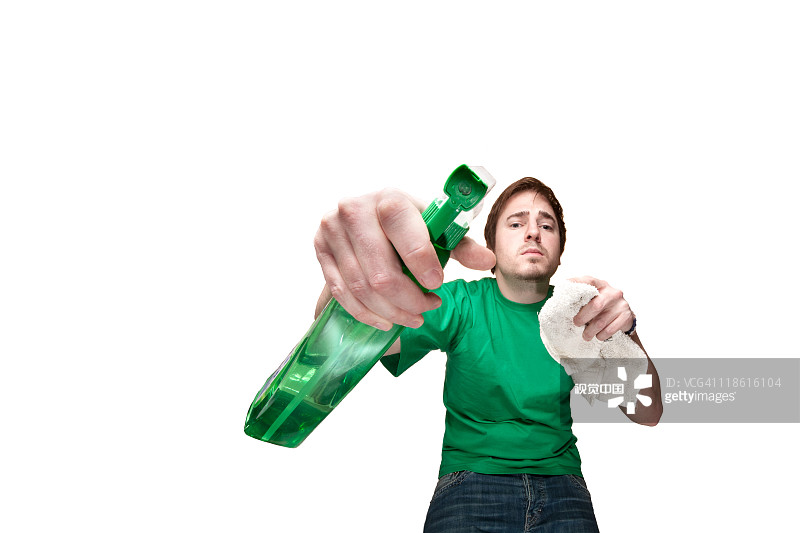no-phone: (286, 175, 506, 338), (540, 263, 651, 349)
